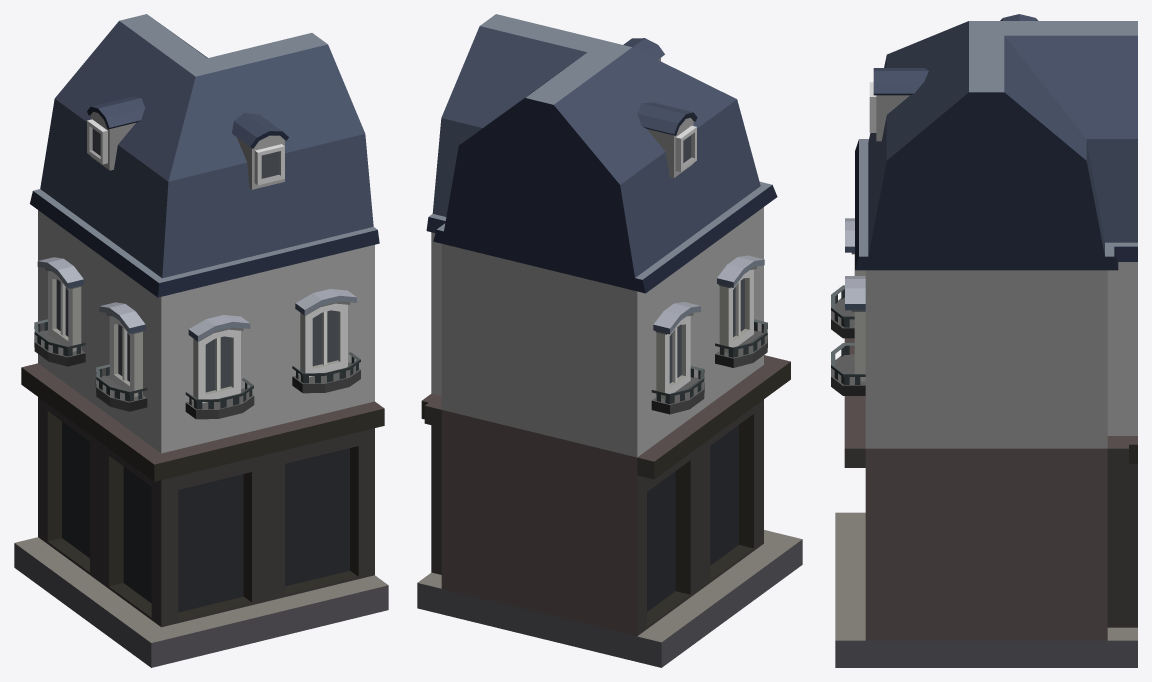
The model's file is TB_CITY_BD_R_Corner_2_B.FBX.
3 views of the same model, side by side, from view 1: azimuth 30°, elevation 25°; view 2: azimuth 150°, elevation 25°; view 3: azimuth 270°, elevation 25° (orthographic). The views are drawn at different scales.
Parts seen in each view (by area): view 1: TB_CITY_BD_R_Corner_2_B; view 2: TB_CITY_BD_R_Corner_2_B; view 3: TB_CITY_BD_R_Corner_2_B.
Boxes of the visible parts, x1,y1,x2,y2 form: TB_CITY_BD_R_Corner_2_B: (14,14,388,667); TB_CITY_BD_R_Corner_2_B: (417,14,802,667); TB_CITY_BD_R_Corner_2_B: (831,14,1137,667).
Bounding box in the file's own units: 8.11 × 16.78 × 8.11.
